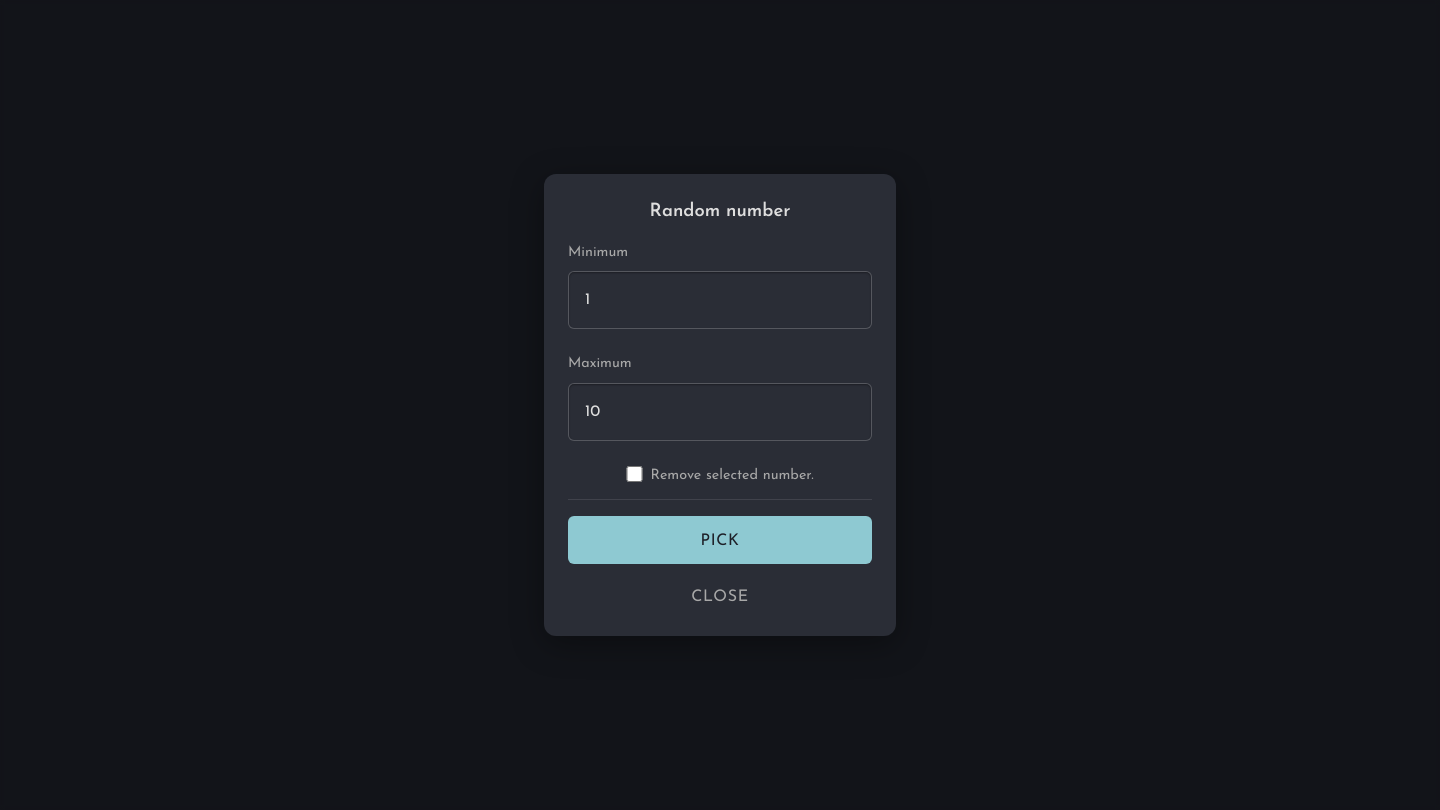
it: Random number range dialog › Shows an error when minimum is greater than maximum.
The image size is (1440, 810).
Replace the text in the number field labelled "Minimum" with "9" at (720, 300), box [568,271,872,329]
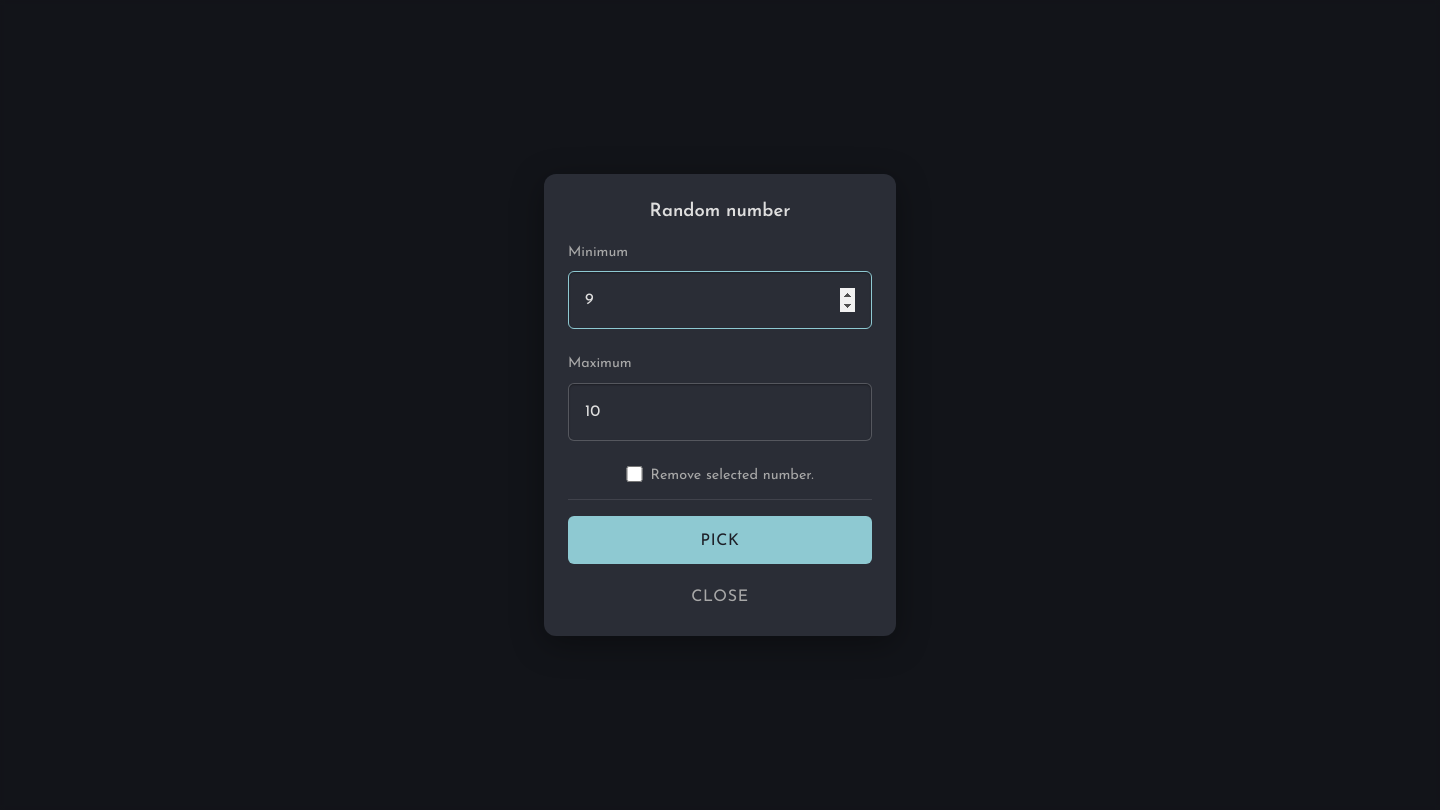
Replace the text in the number field labelled "Maximum" with "1" at (720, 412), box [568,383,872,441]
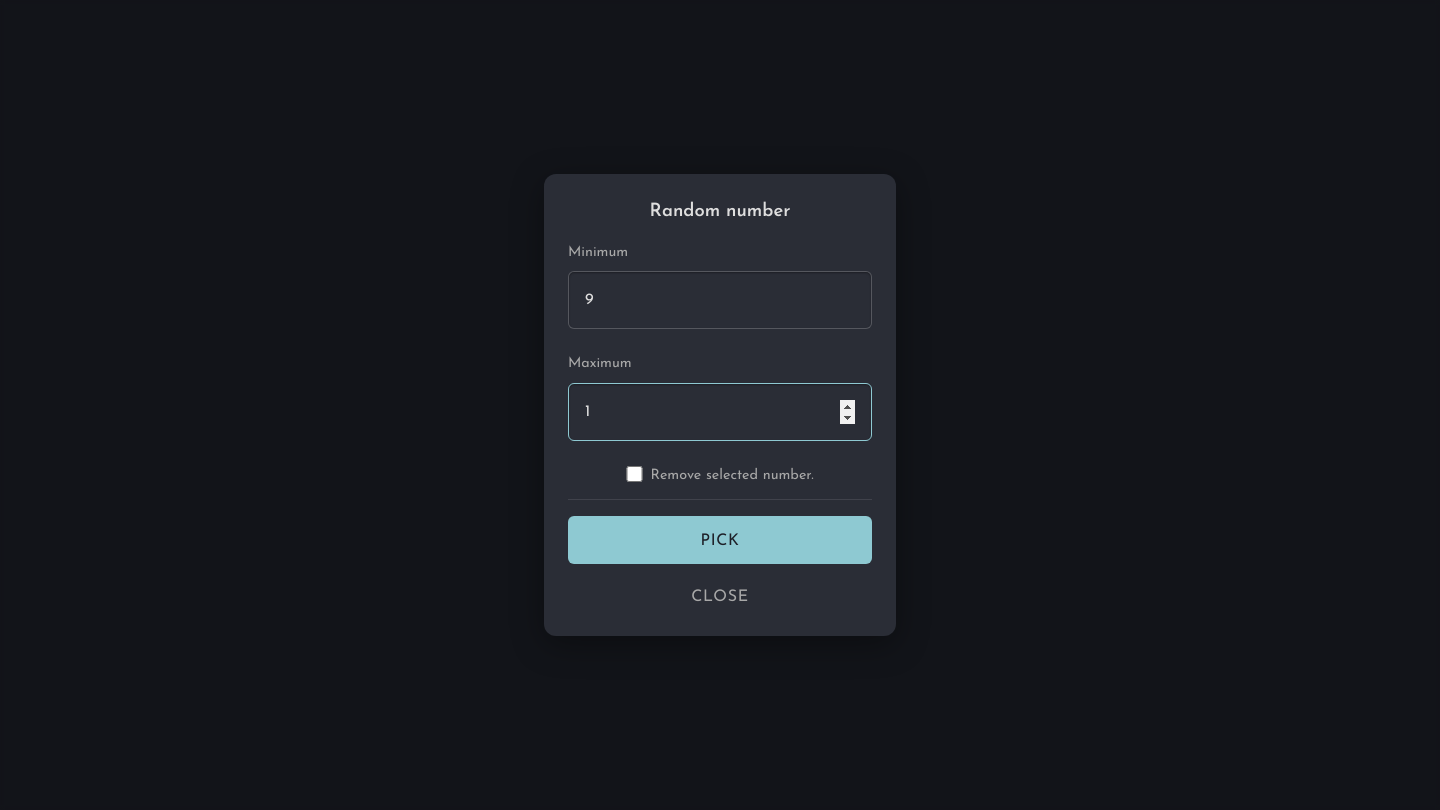
Click the button "Pick".
click(720, 540)  # box [568,516,872,564]
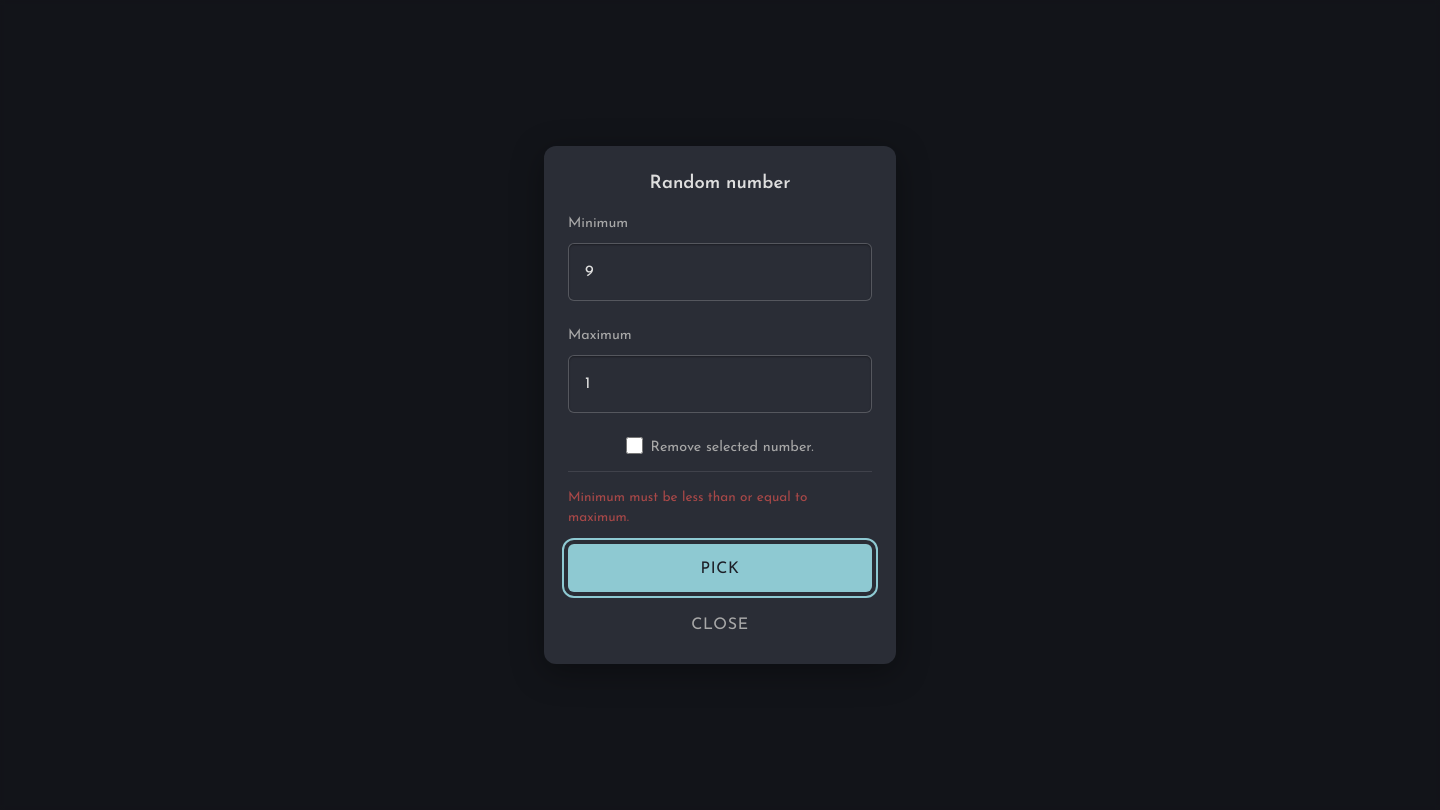
Check: the message shows "Minimum must be less than or equal to maximum", box [568,490,807,524]
